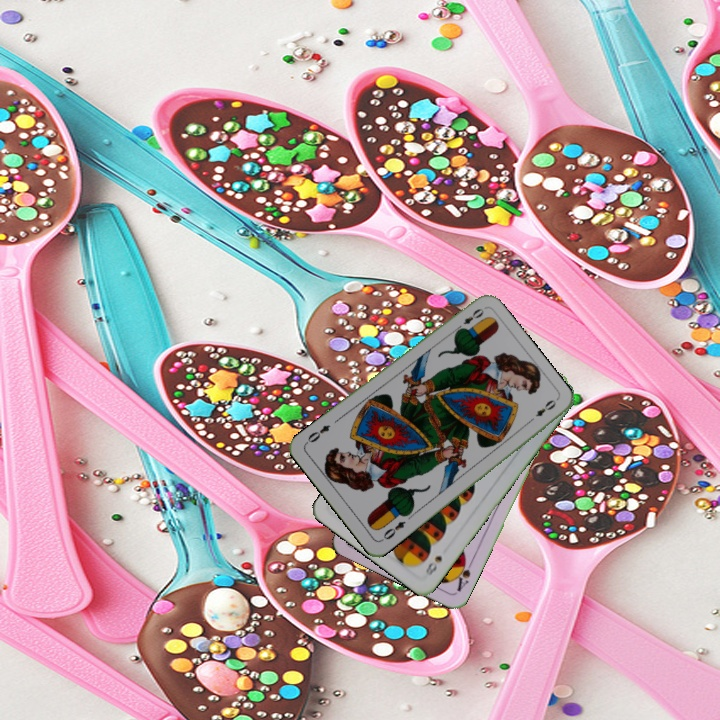EO: (452, 304, 487, 334), (377, 517, 408, 544)
S8: (421, 551, 445, 578)
SA: (450, 554, 476, 594)
